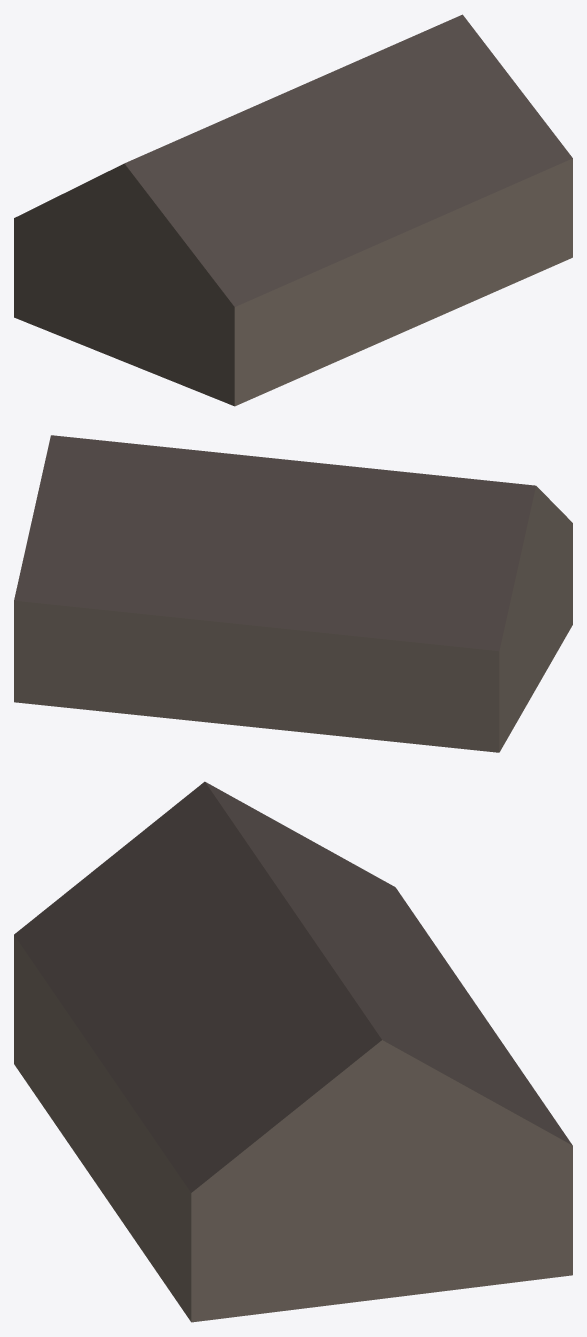
3 renders of one model, top to bottom at view 1: azimuth 30°, elevation 25°; view 2: azimuth 150°, elevation 25°; view 3: azimuth 270°, elevation 25°, orthographic. The views are drawn at different scales.
Visible parts, largest first — view 1: HP-w228035331; view 2: HP-w228035331; view 3: HP-w228035331.
Part boxes in pixels (x1,y1,x2,y2): HP-w228035331: (14,14,572,406); HP-w228035331: (14,435,572,752); HP-w228035331: (14,781,572,1322).
Bounding box in the file's own units: 15.2 × 6 × 11.74.
